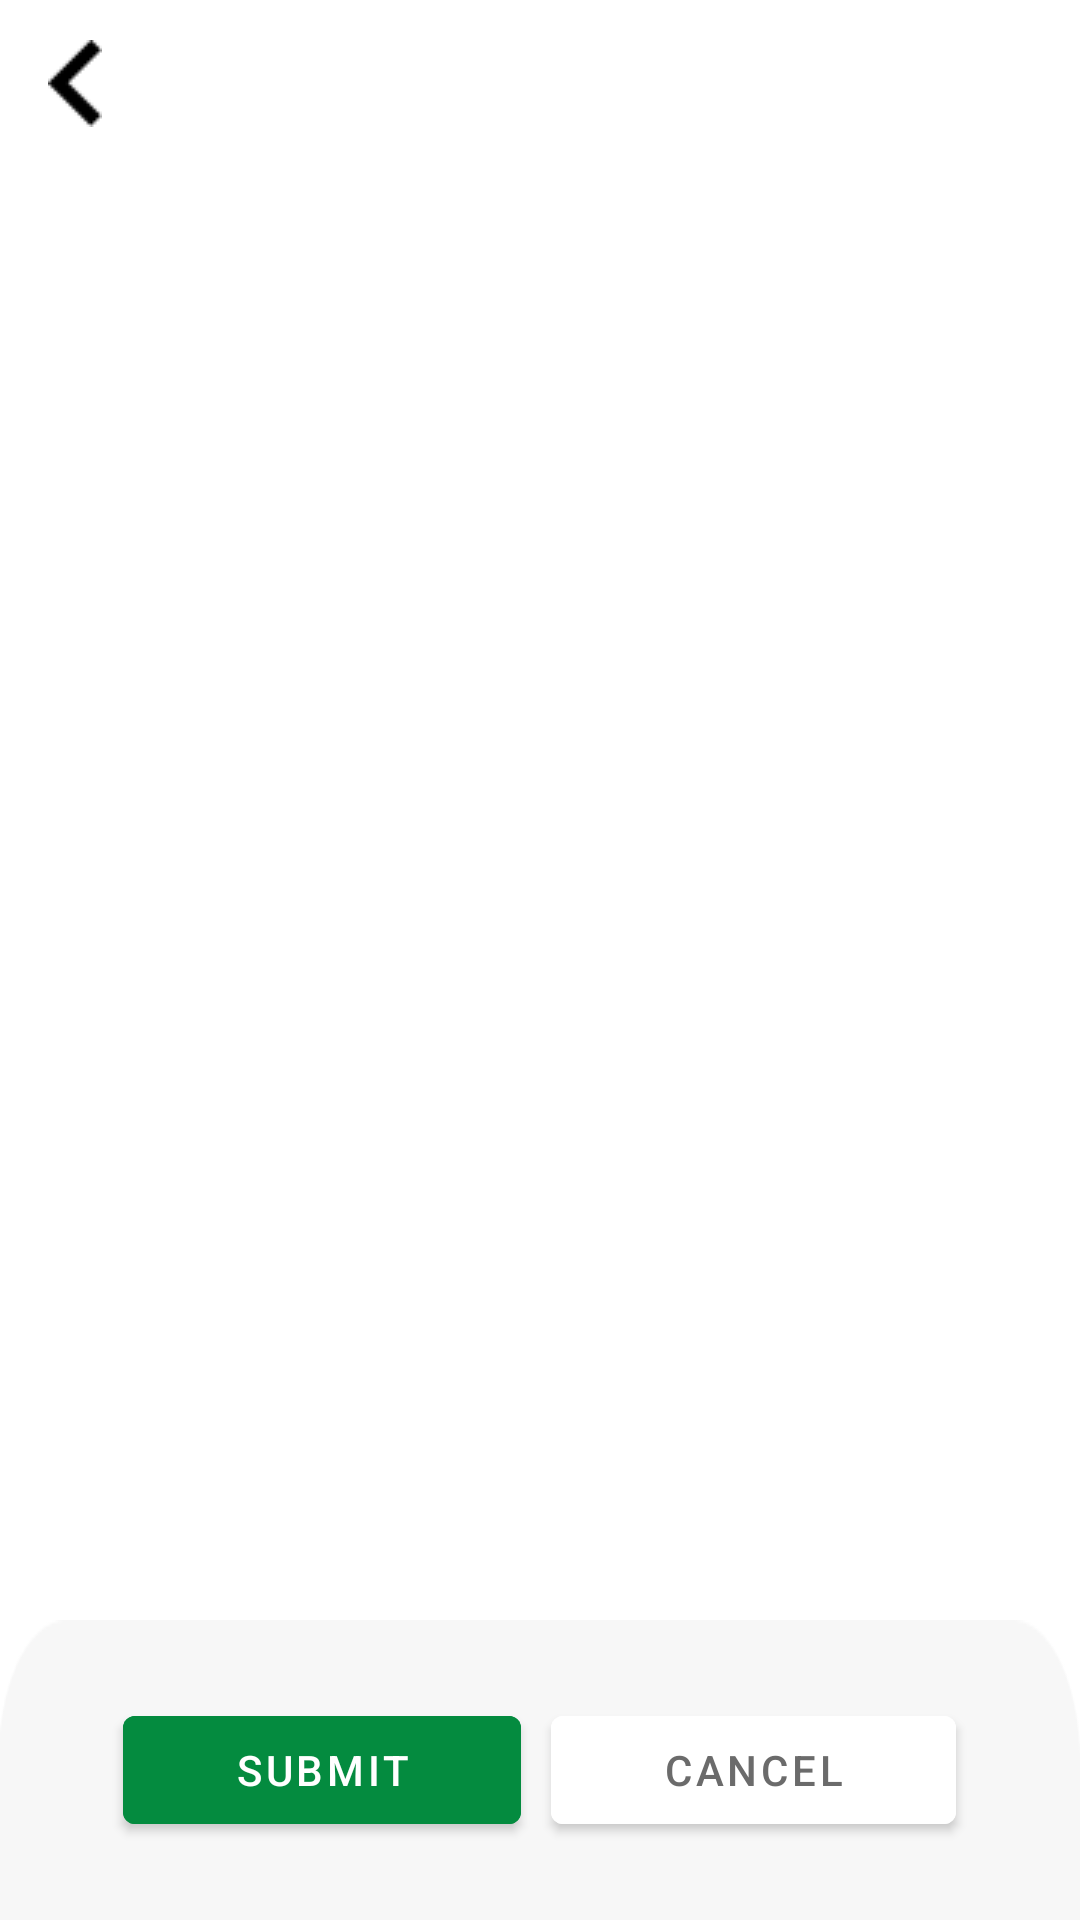

Named icons in this screenshot (1080 x 1920) and their centers, (x=x, y=y):
back: (x=75, y=83)
